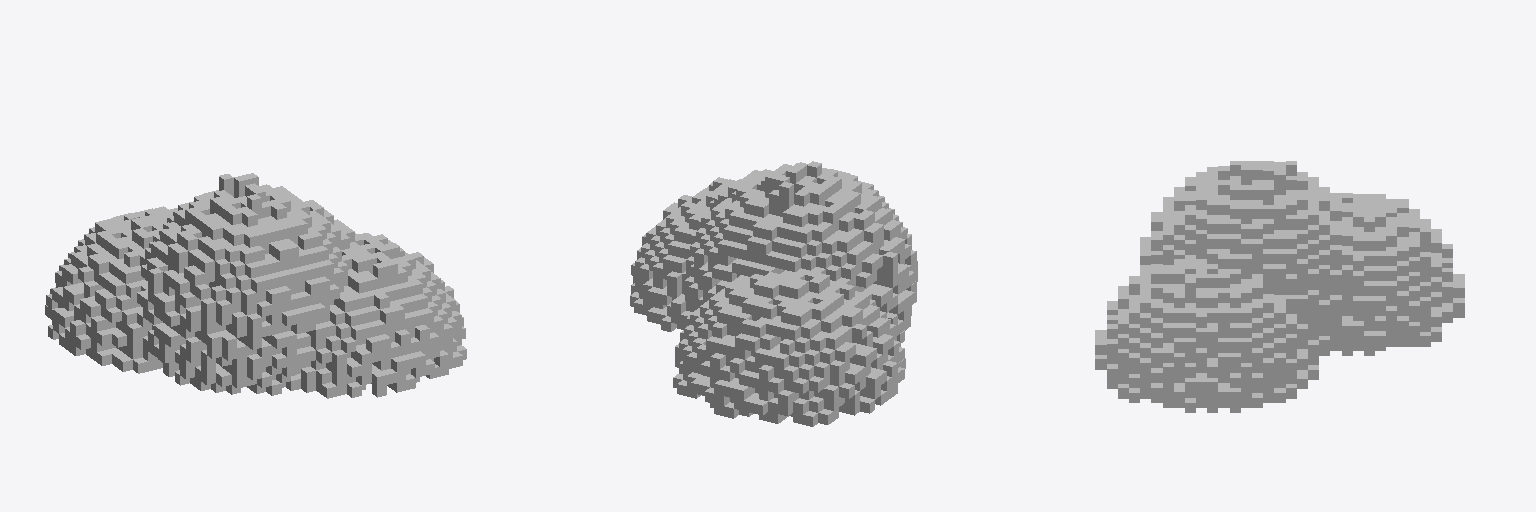
File: Small Bush.obj
3 renders of one model, left to right at view 1: azimuth 30°, elevation 25°; view 2: azimuth 150°, elevation 25°; view 3: azimuth 270°, elevation 25°, orthographic.
Visible parts, largest first — view 1: object 1; view 2: object 1; view 3: object 1.
Part boxes in pixels (left/top/right/bottom): object 1: left=45, top=173, right=466, bottom=398; object 1: left=630, top=161, right=917, bottom=426; object 1: left=1095, top=161, right=1464, bottom=412.
Bounding box in the file's own units: 3.2 × 1.6 × 3.3.